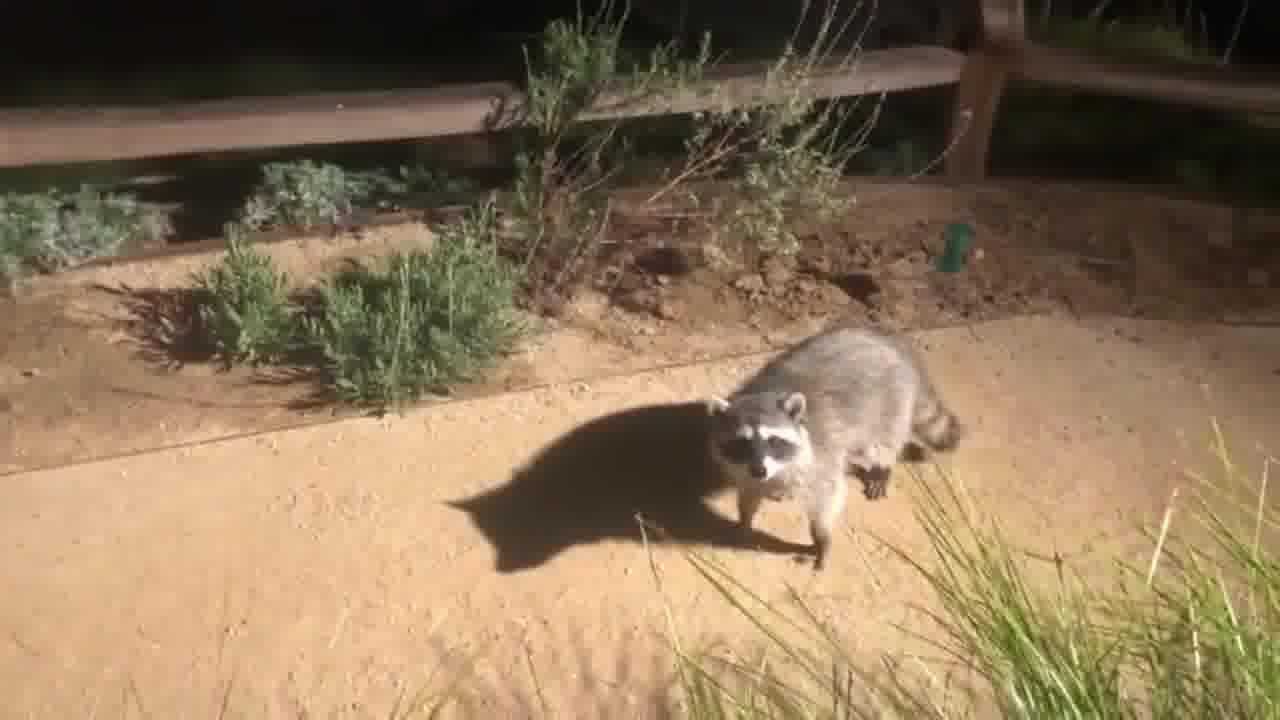raccoon: (709, 323, 965, 572)
